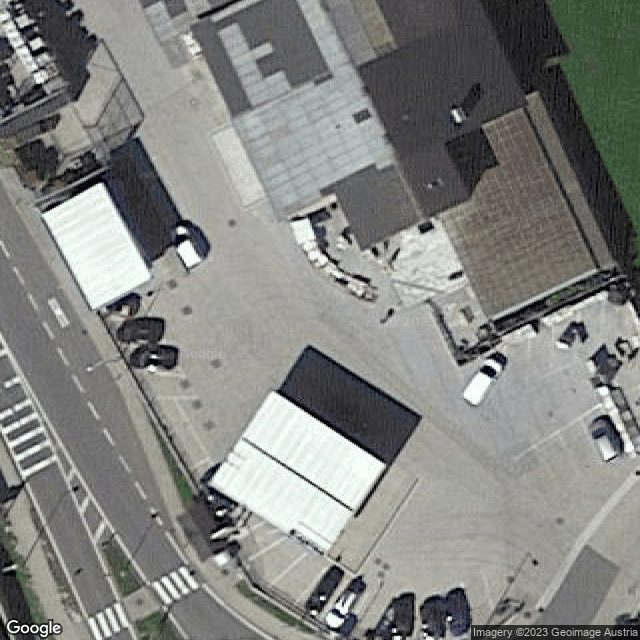obstacles: (450, 108, 468, 127)
panels: (231, 1, 398, 221), (217, 24, 291, 107)
ridge: (320, 2, 425, 220), (522, 110, 599, 270), (240, 437, 356, 512)
roof: (189, 1, 529, 250), (436, 93, 619, 319), (209, 391, 386, 554), (42, 184, 153, 310)
